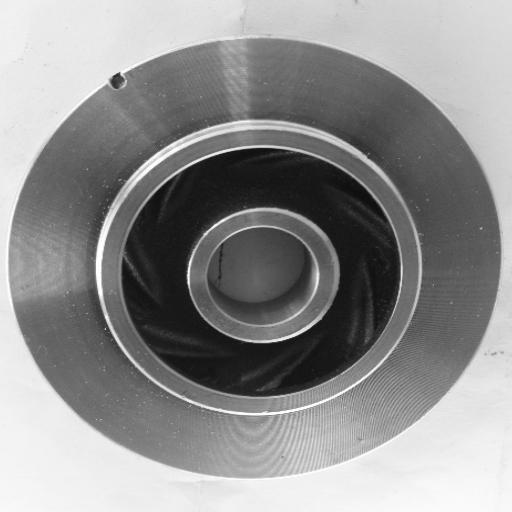pit: (97, 64, 136, 100)
unpolished_casting: (9, 35, 502, 482)
